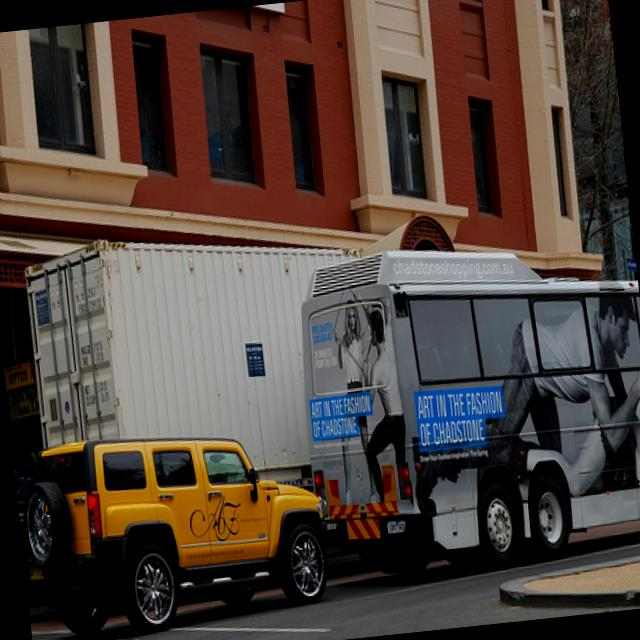Vehicle: (288, 224, 640, 588), (20, 210, 386, 528), (12, 407, 337, 640), (14, 417, 334, 640)
